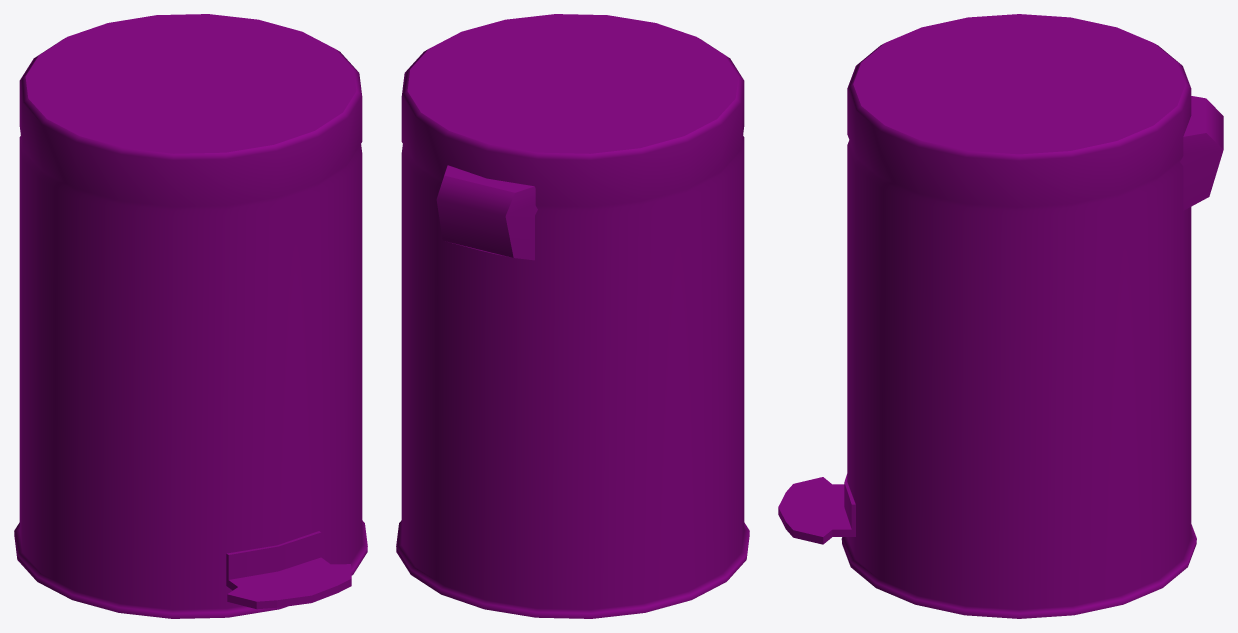
The model's file is Trash_Can.fbx.
3 renders of one model, left to right at view 1: azimuth 30°, elevation 25°; view 2: azimuth 150°, elevation 25°; view 3: azimuth 270°, elevation 25°, orthographic.
Visible parts, largest first — view 1: Trash_Can; view 2: Trash_Can; view 3: Trash_Can.
Boxes of the visible parts, bbox=[...] form: Trash_Can: bbox=[14, 14, 367, 618]; Trash_Can: bbox=[396, 14, 749, 618]; Trash_Can: bbox=[778, 14, 1223, 618].
Bounding box in the file's own units: 187 × 266 × 234.
